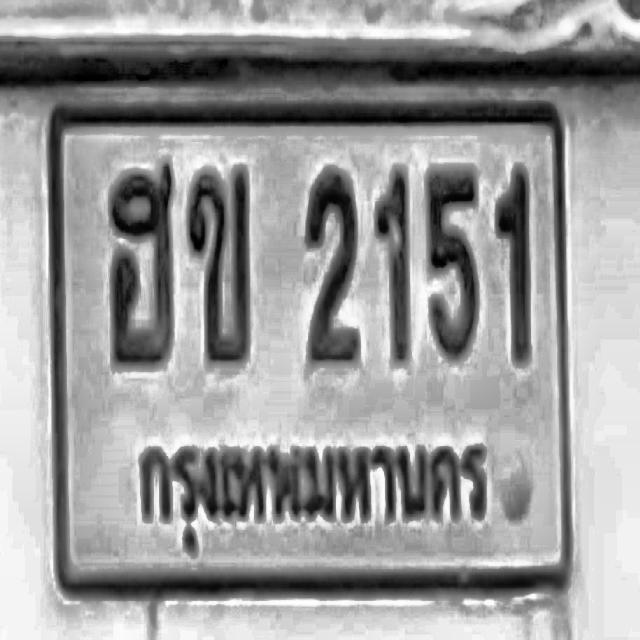license-plate: (44, 92, 570, 590)
